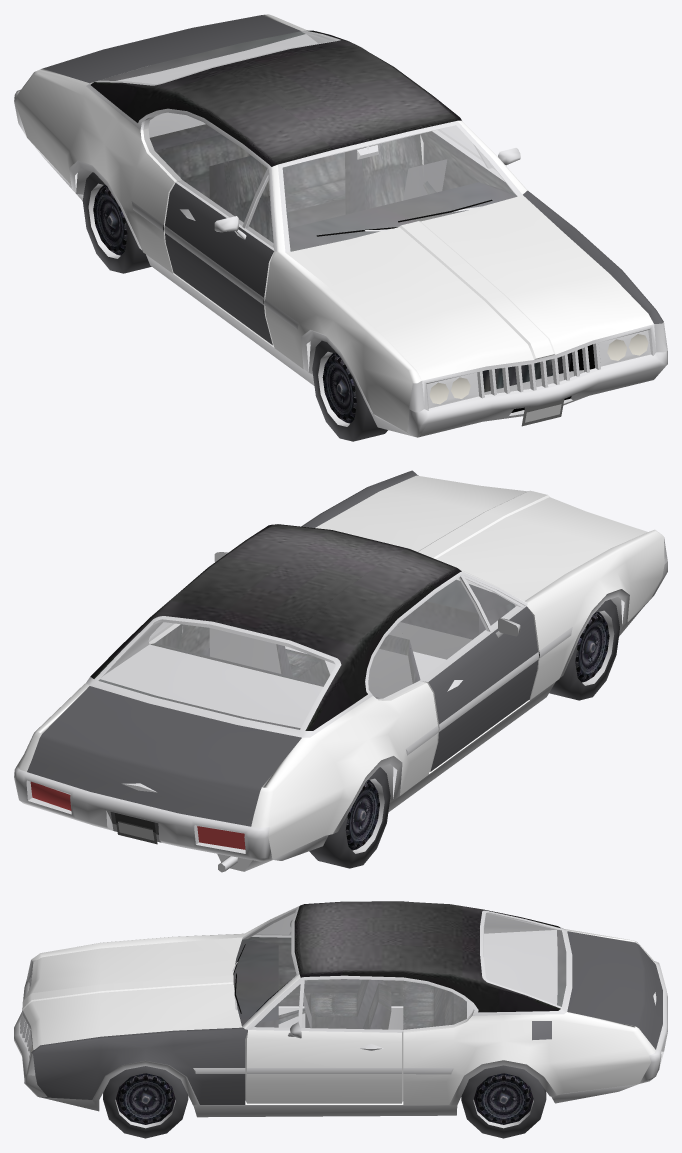
File: clover.glb
3 views of the same model, one above another, from view 1: azimuth 30°, elevation 25°; view 2: azimuth 150°, elevation 25°; view 3: azimuth 270°, elevation 25° (orthographic). The views are drawn at different scales.
Visible parts, largest first — view 1: body, door_R, wheel_FR, wheel_BR, door_L; view 2: body, door_R, wheel_BR, wheel_FR, door_L; view 3: body, door_L, wheel_BL, wheel_FL, door_R.
Part boxes in pixels (x1,y1,x2,y2): body: (14,14,667,437); door_R: (164,123,274,345); wheel_FR: (312,340,387,441); wheel_BR: (82,172,151,273); door_L: (420,126,520,192); body: (14,470,667,872); door_R: (397,575,538,771); wheel_BR: (309,767,390,868); wheel_FR: (549,599,619,700); door_L: (180,552,227,656); body: (14,901,667,1117); door_L: (245,979,403,1103); wheel_BL: (461,1065,546,1138); wheel_FL: (103,1066,188,1138); door_R: (248,913,403,1006).
Bounding box in the file's own units: 2.44 × 1.56 × 5.84.
Materials: 18 (3 with a texture image).
